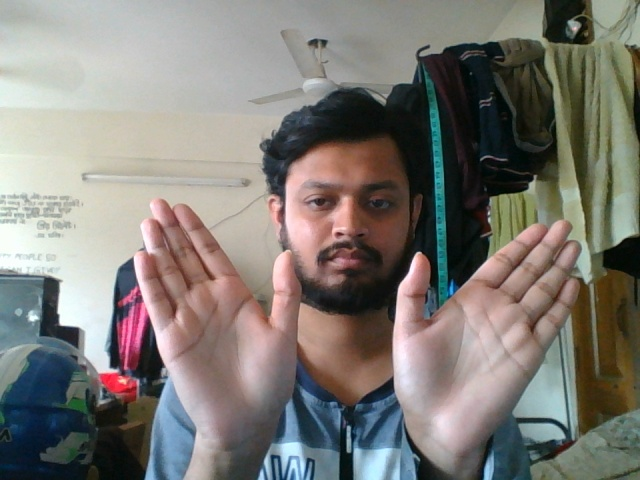naa: (120, 194, 594, 444)
